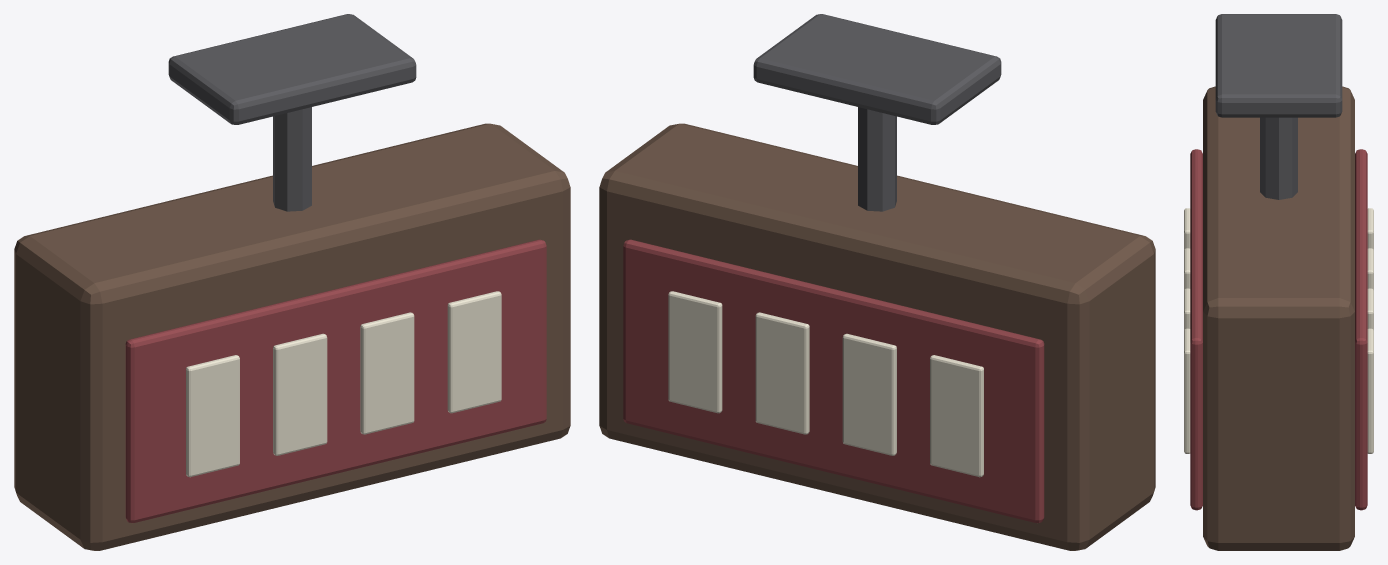
3 renders of one model, left to right at view 1: azimuth 30°, elevation 25°; view 2: azimuth 150°, elevation 25°; view 3: azimuth 270°, elevation 25°, orthographic. The views are drawn at different scales.
Visible parts, largest first — view 1: exitSign; view 2: exitSign; view 3: exitSign.
Part boxes in pixels (x1,y1,x2,y2): exitSign: (14,14,570,550); exitSign: (599,14,1155,550); exitSign: (1184,14,1373,550).
Size of the model in its own units: 0.42 by 0.34 by 0.15.
